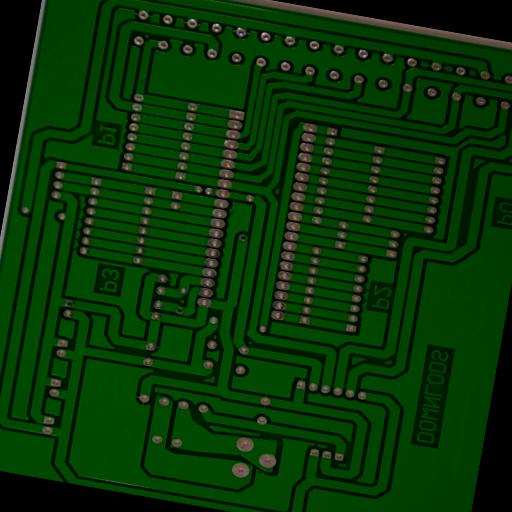missing_hole: (236, 231, 249, 242), (174, 304, 185, 314), (64, 298, 75, 307)
